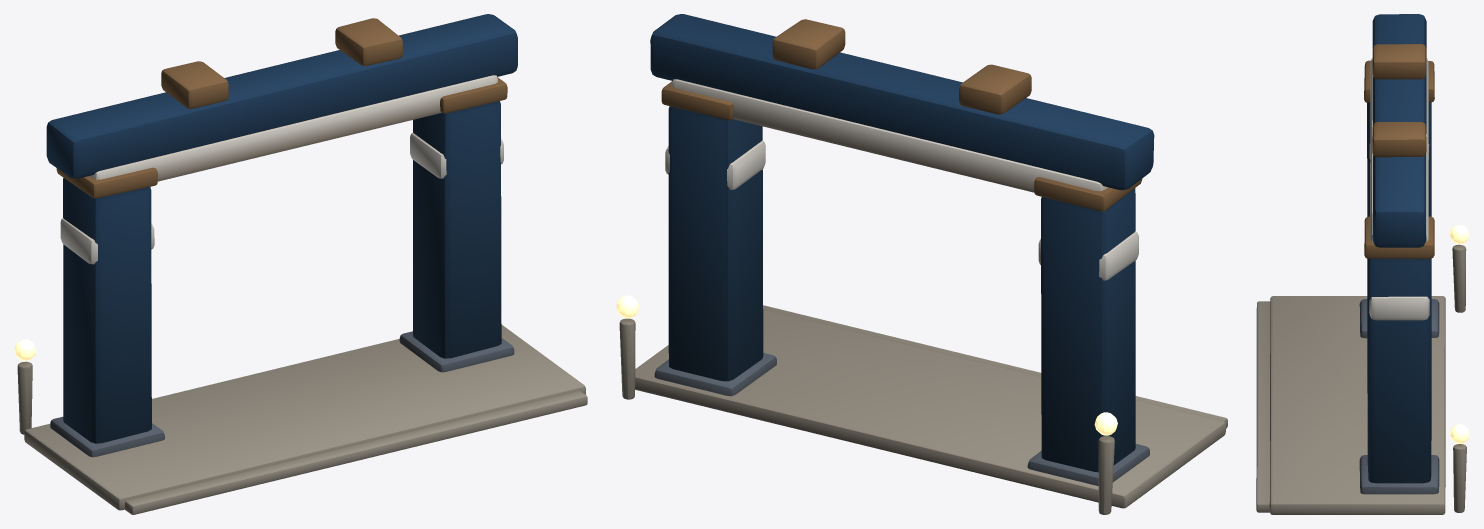
3 renders of one model, left to right at view 1: azimuth 30°, elevation 25°; view 2: azimuth 150°, elevation 25°; view 3: azimuth 270°, elevation 25°, orthographic. The views are drawn at different scales.
Visible parts, largest first — view 1: gate_937610d5; view 2: gate_937610d5; view 3: gate_937610d5.
Part boxes in pixels (x1,y1,x2,y2): gate_937610d5: (14, 14, 587, 514); gate_937610d5: (616, 14, 1227, 514); gate_937610d5: (1256, 14, 1469, 514).
Bounding box in the file's own units: 5.91 × 4.24 × 2.55.
